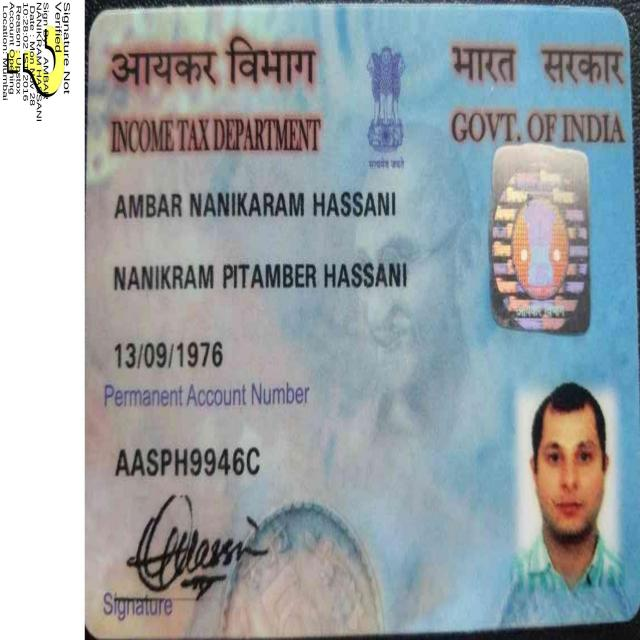pan_card: (90, 18, 635, 623)
